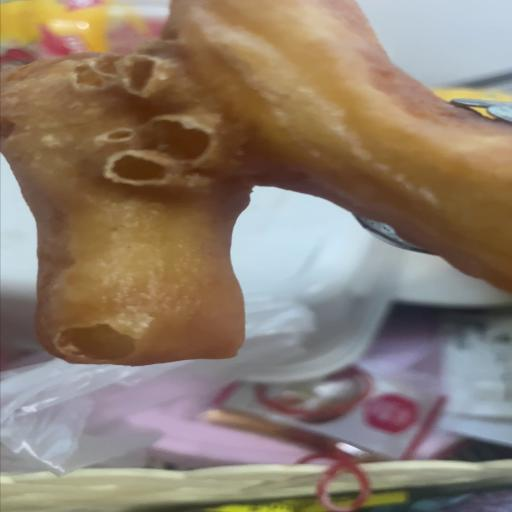street_burnt_defect: (0, 0, 510, 360)
